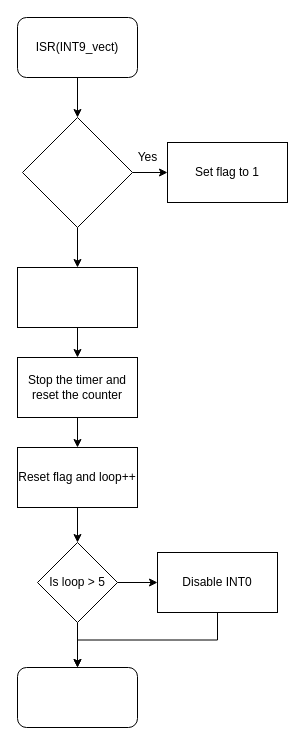
Some shapes in this 305 by 745 pixel diagram are drawn without their labels. Here are the shapes that lost their labels. From the top down, the centre of each, then its label:
(x=77, y=172): Is echoFlag = 0?
(x=77, y=297): Pulse takes the value of the counter
(x=77, y=697): END
